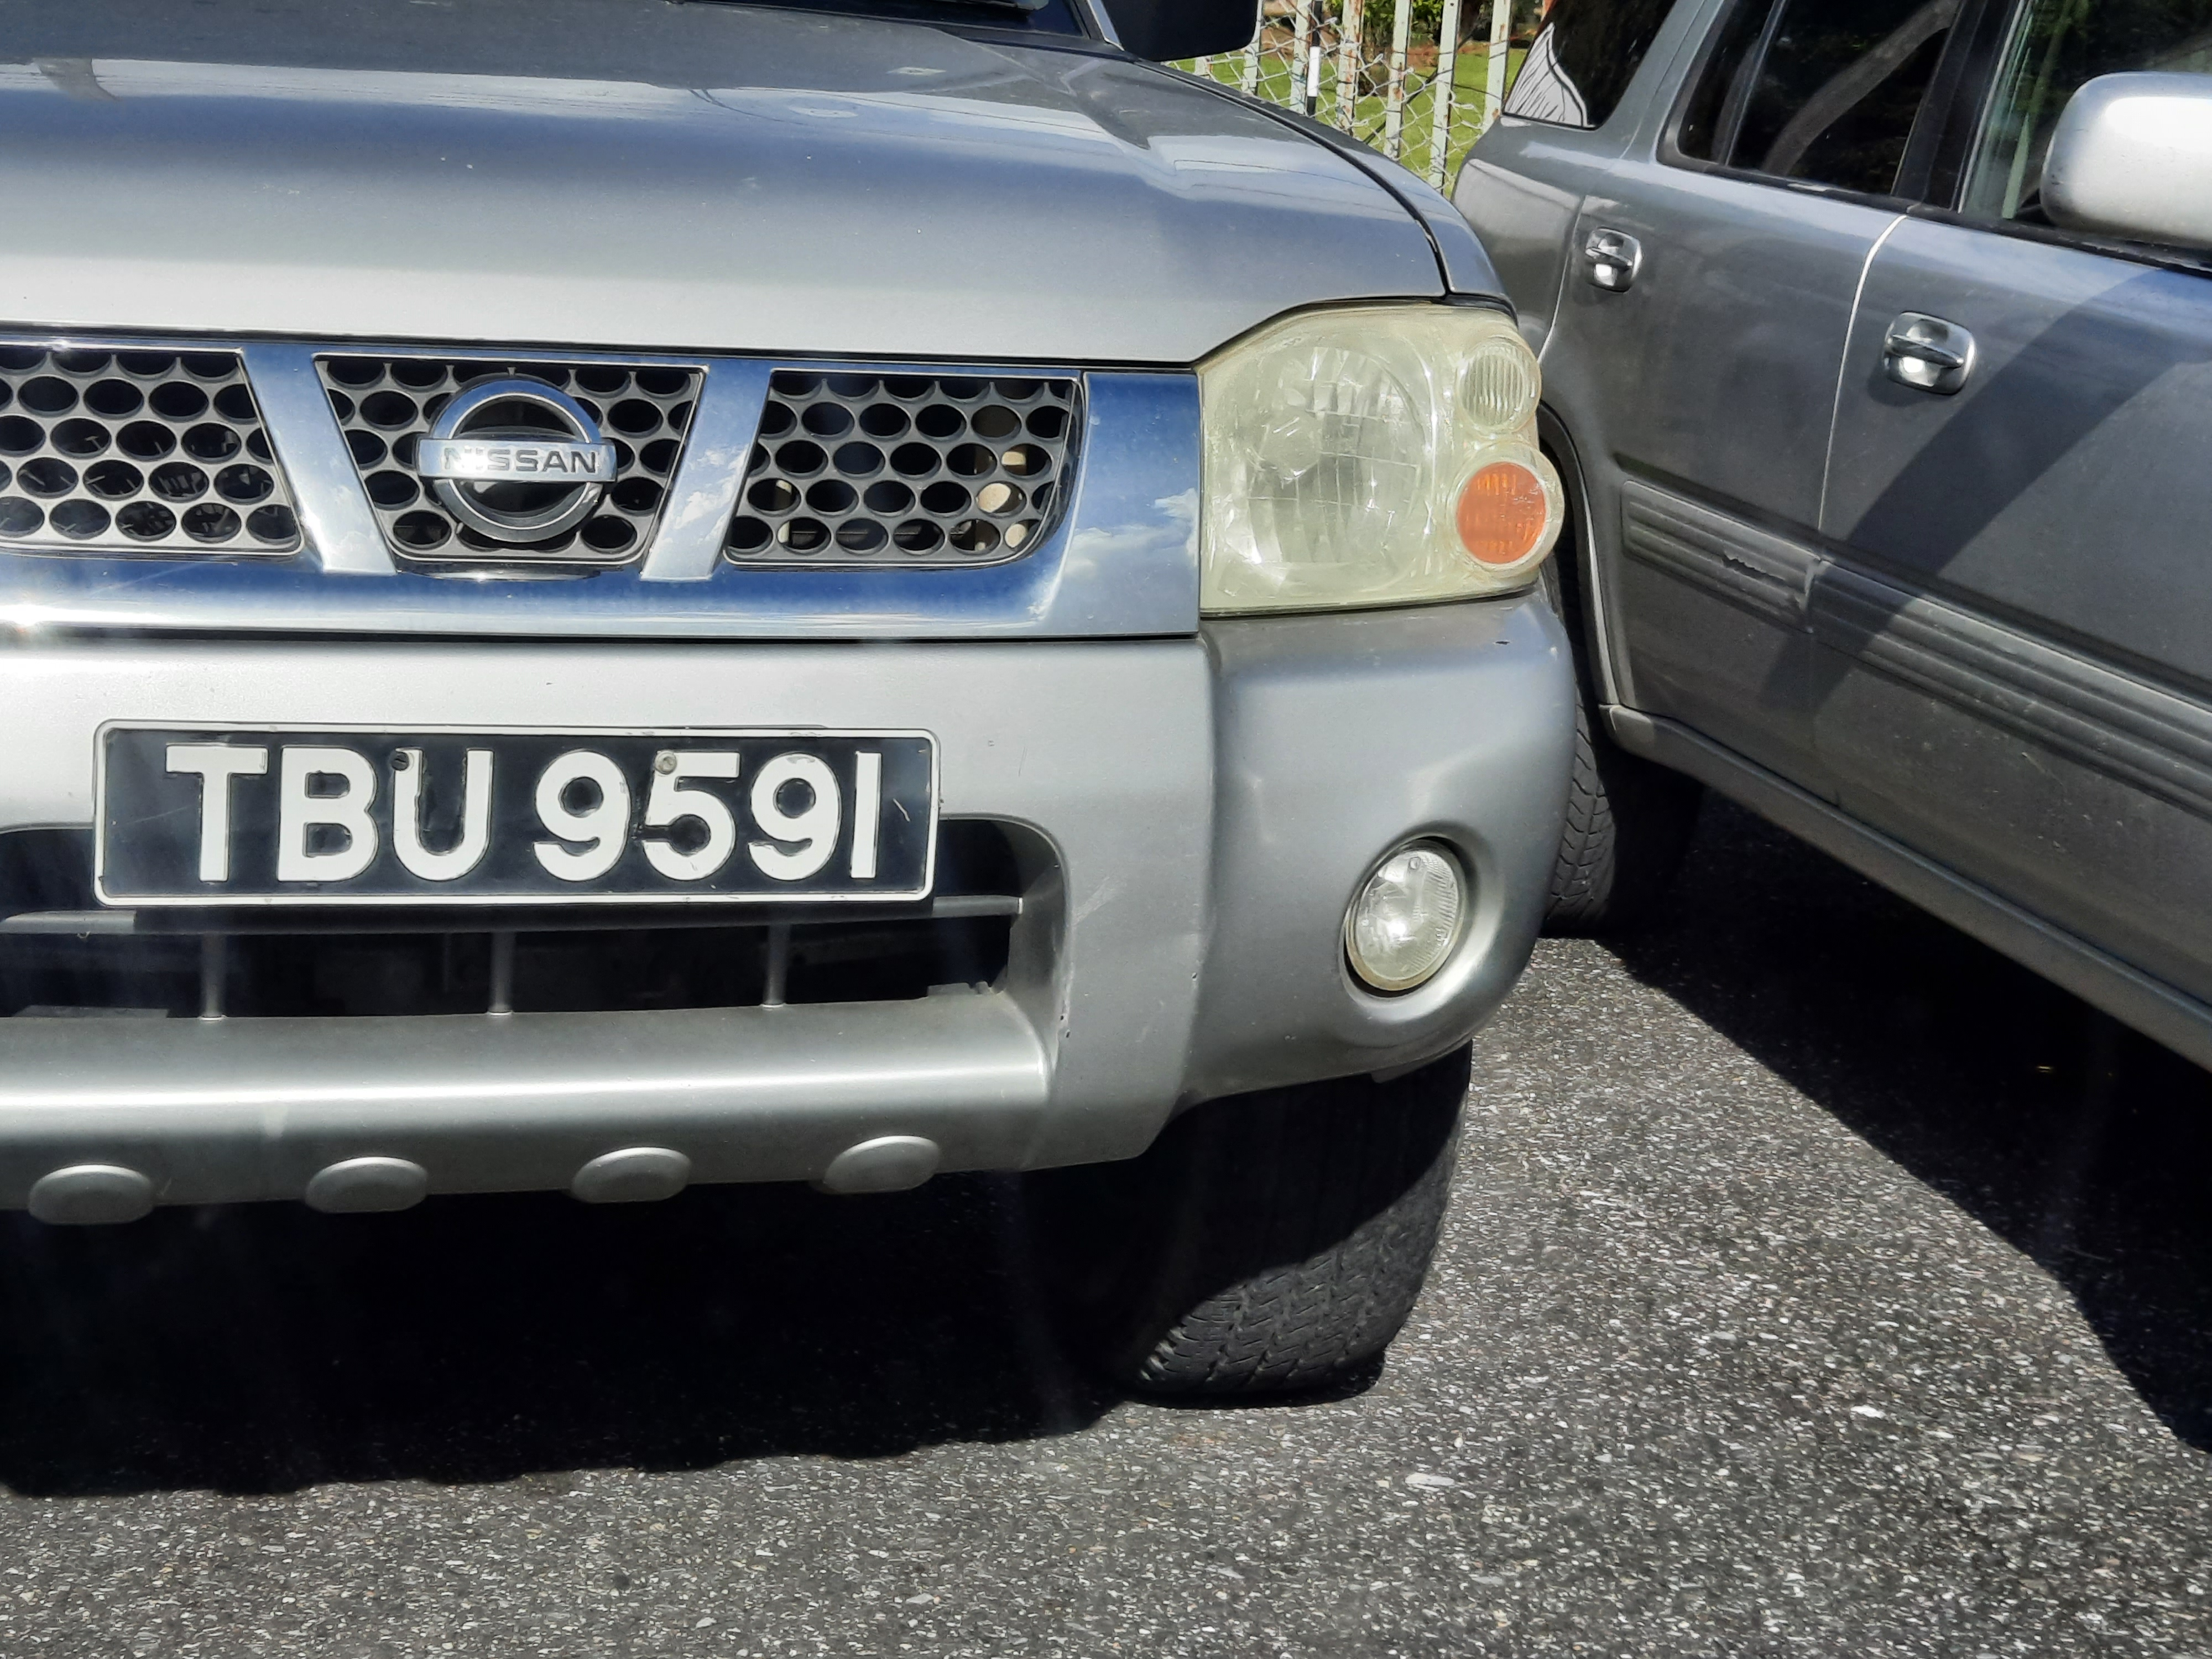License-Plate: (94, 717, 937, 901)
